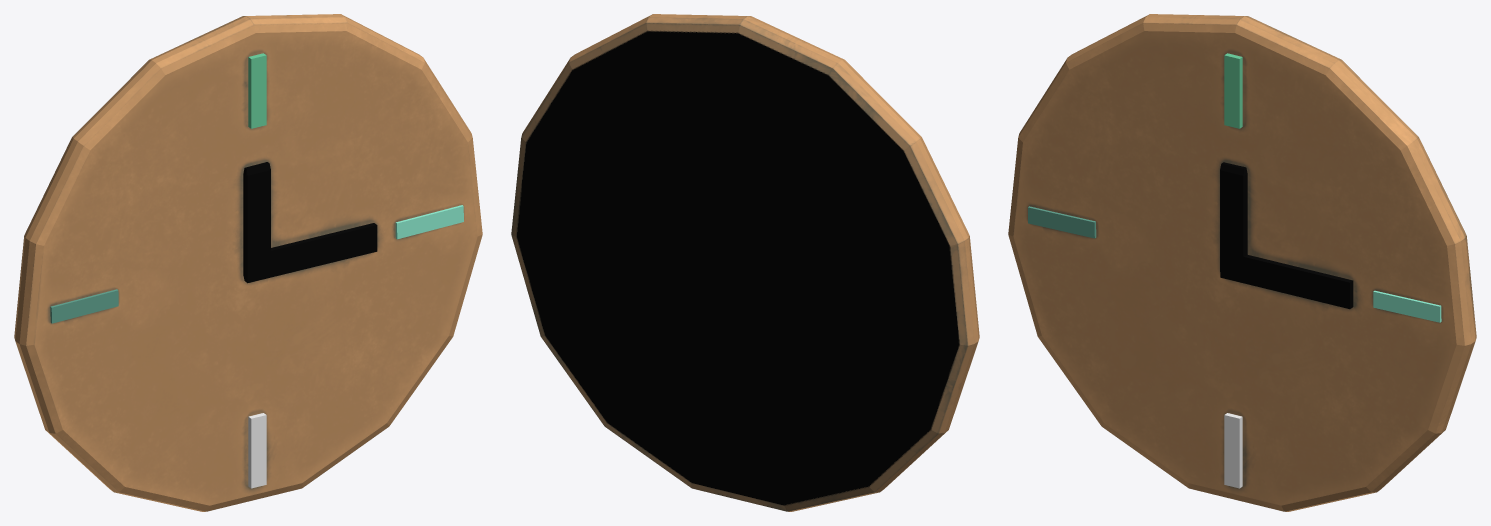
File: Clock 1.fbx
The picture shows the model from 3 angles, left to right: view 1: azimuth 30°, elevation 25°; view 2: azimuth 150°, elevation 25°; view 3: azimuth 330°, elevation 25°; orthographic projection.
Visible parts, largest first — view 1: Circle; view 2: Circle; view 3: Circle.
Boxes of the visible parts, box(x1,y1,x2,y2) form: Circle: box(14, 14, 482, 511); Circle: box(511, 14, 979, 511); Circle: box(1008, 14, 1476, 511).
Size of the model in its own units: 4.88 by 0.331 by 4.85.
Materials: 1 (1 with a texture image).
